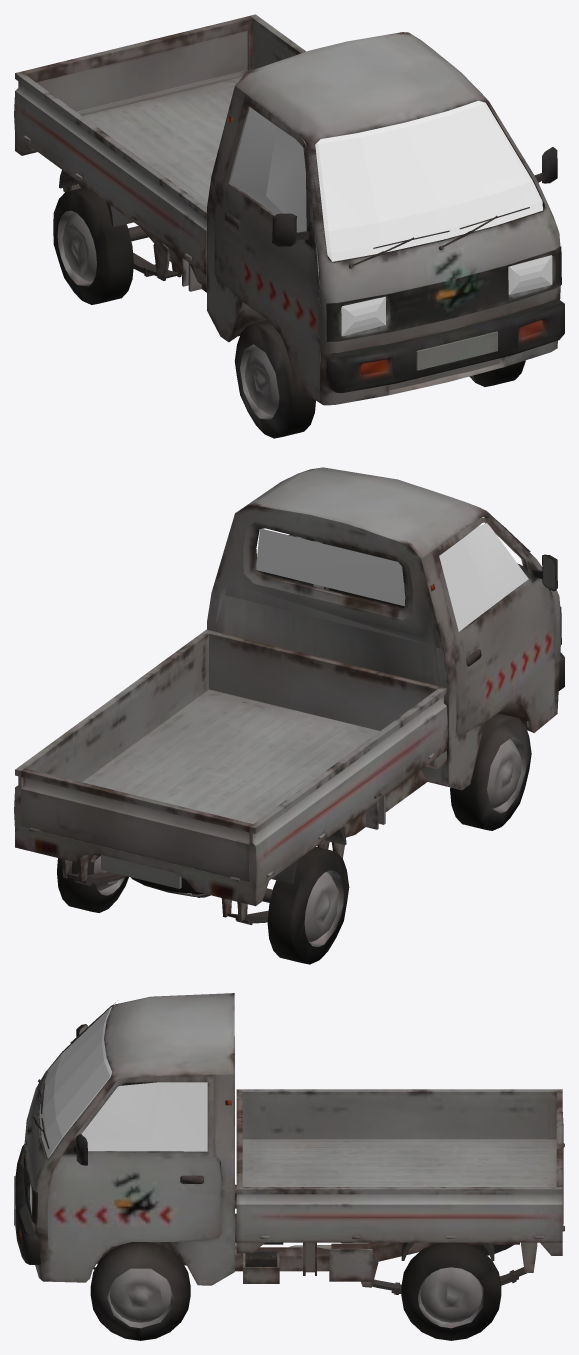
File: n_rob3.glb
The picture shows the model from 3 angles, top to bottom: view 1: azimuth 30°, elevation 25°; view 2: azimuth 150°, elevation 25°; view 3: azimuth 270°, elevation 25°; orthographic projection. The views are drawn at different scales.
Parts seen in each view (by area): view 1: rascal_rascalbody_0_g1_0, GLASS_glass_0_g0_0, wheel_rr, wheel_fr, wheel_fl; view 2: rascal_rascalbody_0_g1_0, GLASS_glass_0_g0_0, wheel_rr, wheel_fr, wheel_rl; view 3: rascal_rascalbody_0_g1_0, GLASS_glass_0_g0_0, wheel_fl, wheel_rl.
Part boxes in pixels (left/top/right/bottom): rascal_rascalbody_0_g1_0: left=14, top=14, right=564, bottom=405; GLASS_glass_0_g0_0: left=230, top=100, right=552, bottom=336; wheel_rr: left=53, top=187, right=133, bottom=304; wheel_fr: left=234, top=320, right=315, bottom=438; wheel_fl: left=469, top=360, right=525, bottom=386; rascal_rascalbody_0_g1_0: left=14, top=467, right=564, bottom=925; GLASS_glass_0_g0_0: left=256, top=523, right=528, bottom=631; wheel_rr: left=267, top=846, right=349, bottom=964; wheel_fr: left=450, top=713, right=531, bottom=830; wheel_rl: left=57, top=854, right=128, bottom=912; rascal_rascalbody_0_g1_0: left=14, top=993, right=564, bottom=1294; GLASS_glass_0_g0_0: left=30, top=1007, right=207, bottom=1213; wheel_fl: left=90, top=1242, right=190, bottom=1340; wheel_rl: left=401, top=1242, right=501, bottom=1340.
Bounding box in the file's own units: 2.15 × 2.31 × 4.25.
Materials: 2 (1 with a texture image).
